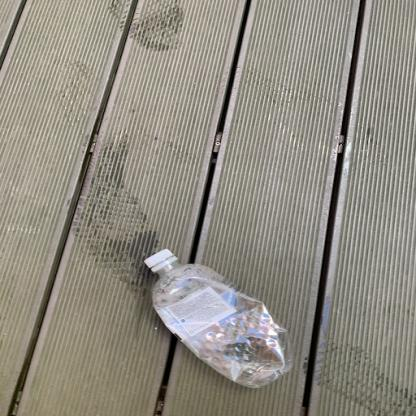trash: (144, 250, 296, 392)
